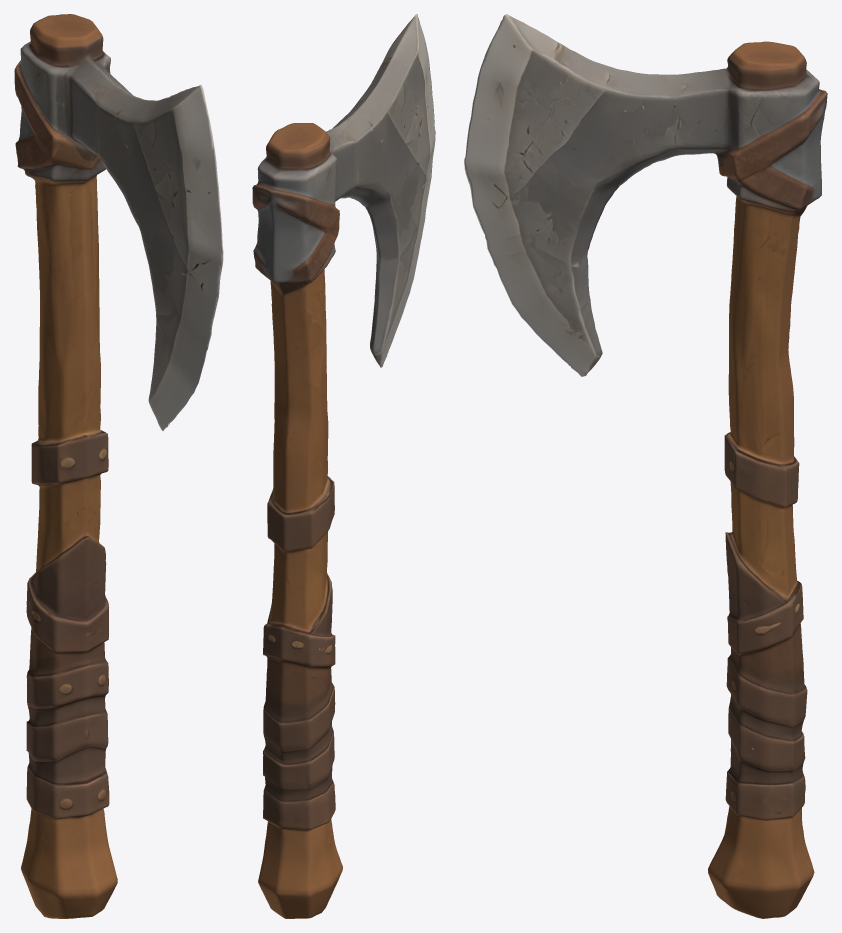
Rendered from axe.fbx.
3 renders of one model, left to right at view 1: azimuth 30°, elevation 25°; view 2: azimuth 150°, elevation 25°; view 3: azimuth 270°, elevation 25°, orthographic. The views are drawn at different scales.
Visible parts, largest first — view 1: model; view 2: model; view 3: model.
Part boxes in pixels (bbox=[...]): model: bbox=[14, 14, 223, 918]; model: bbox=[252, 14, 435, 918]; model: bbox=[464, 14, 827, 918].
Bounding box in the file's own units: 15.77 × 184 × 67.42.
Materials: 1 (1 with a texture image).
